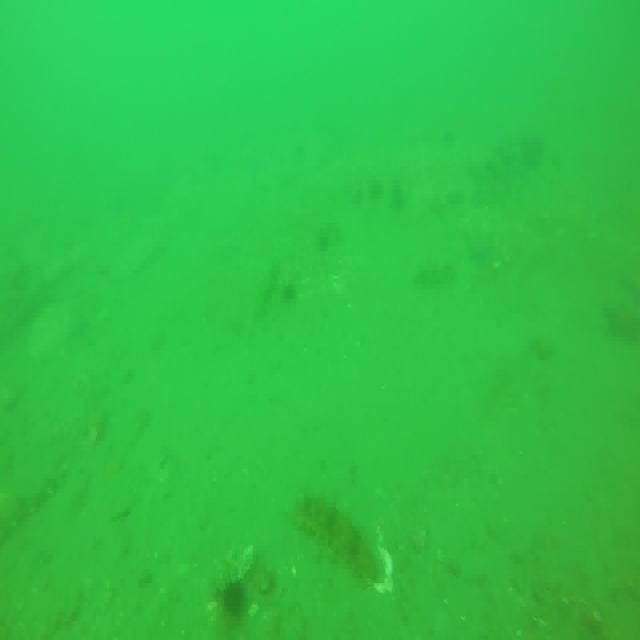echinus: (218, 577, 252, 619)
holothurian: (290, 497, 383, 586), (0, 462, 56, 542), (410, 255, 457, 287)
starfish: (602, 298, 640, 346), (467, 233, 499, 264)
